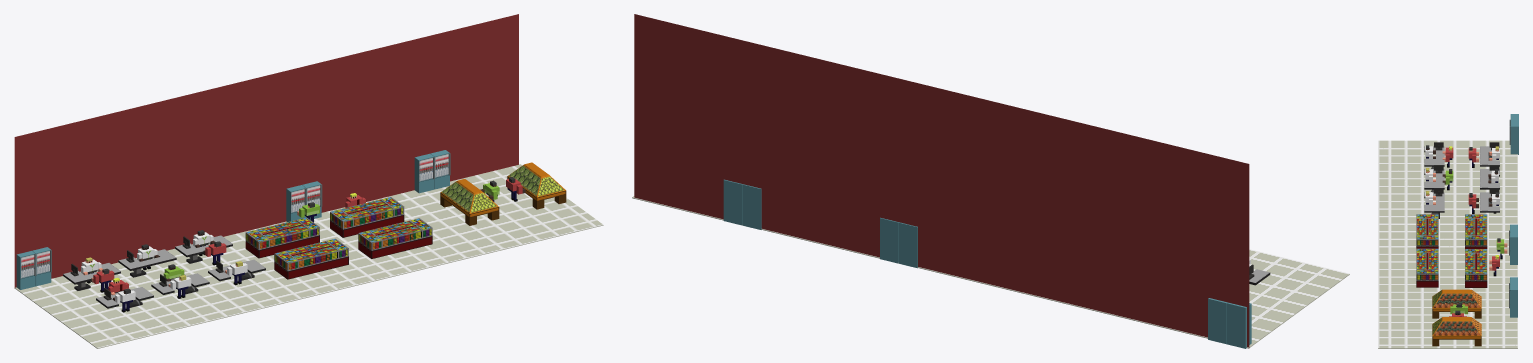
Rendered from Supermercado.FBX.
The picture shows the model from 3 angles, left to right: view 1: azimuth 30°, elevation 25°; view 2: azimuth 150°, elevation 25°; view 3: azimuth 270°, elevation 25°; orthographic projection. The views are drawn at different scales.
Parts seen in each view (by area): view 1: Parede, Piso, Free_03, Free_02, Free_01, Free_04, Fru_01, Fru_002, Ref_01, Ref_04, Ref_03, Caixa_02 (+5 smaller); view 2: Parede, Piso, Ref_04, Ref_01, Ref_03; view 3: Piso, Fru_002, Fru_01, Free_03, Free_04, Free_01, Free_02, Ref_04, Ref_01, Ref_03, Caixa_06, Caixa_03 (+17 smaller).
Boxes of the visible parts, <box> form: Parede: <box>14,14,518,287</box>; Piso: <box>14,164,603,348</box>; Free_03: <box>358,218,432,258</box>; Free_02: <box>274,238,348,279</box>; Free_01: <box>245,217,319,258</box>; Free_04: <box>330,197,404,237</box>; Fru_01: <box>440,179,499,225</box>; Fru_002: <box>507,162,566,209</box>; Ref_01: <box>414,150,450,193</box>; Ref_04: <box>16,247,51,289</box>; Ref_03: <box>286,181,322,221</box>; Caixa_02: <box>118,249,176,277</box>; Parede: <box>634,14,1249,348</box>; Piso: <box>632,196,1349,348</box>; Ref_04: <box>1208,298,1251,348</box>; Ref_01: <box>723,179,761,229</box>; Ref_03: <box>880,217,917,268</box>; Piso: <box>1378,140,1517,348</box>; Fru_002: <box>1432,317,1481,346</box>; Fru_01: <box>1432,289,1481,318</box>; Free_03: <box>1416,248,1438,287</box>; Free_04: <box>1465,249,1487,287</box>; Free_01: <box>1465,214,1487,248</box>; Free_02: <box>1416,214,1438,248</box>; Ref_04: <box>1509,114,1518,154</box>; Ref_01: <box>1509,277,1517,317</box>; Ref_03: <box>1509,224,1517,264</box>; Caixa_06: <box>1424,192,1444,218</box>; Caixa_03: <box>1480,192,1499,212</box>.
Size of the model in its own units: 6844 by 1959 by 1961.
